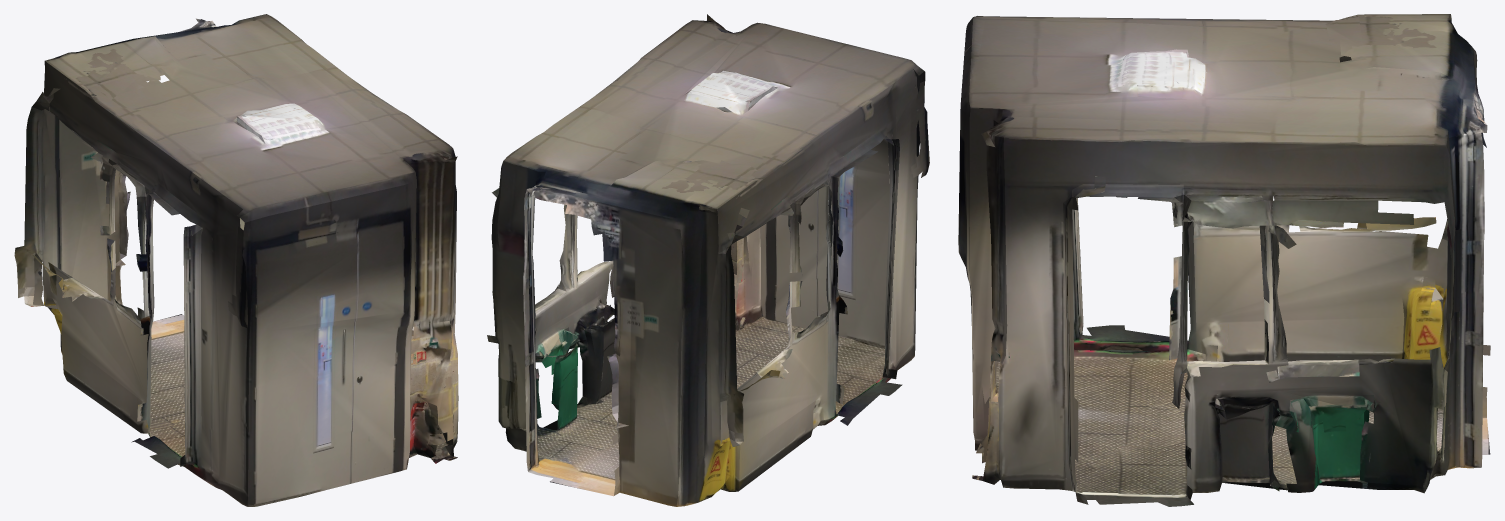
Rendered from Tv_entrance-IM.fbx.
3 renders of one model, left to right at view 1: azimuth 30°, elevation 25°; view 2: azimuth 150°, elevation 25°; view 3: azimuth 270°, elevation 25°, orthographic. The views are drawn at different scales.
Visible parts, largest first — view 1: Tv_entrance-IM; view 2: Tv_entrance-IM; view 3: Tv_entrance-IM.
Boxes of the visible parts, box(x1,y1,x2,y2) form: Tv_entrance-IM: box(14, 14, 458, 506); Tv_entrance-IM: box(487, 14, 929, 506); Tv_entrance-IM: box(958, 14, 1490, 506).
Size of the model in its own units: 266 by 284 by 374.
Materials: 1 (1 with a texture image).
